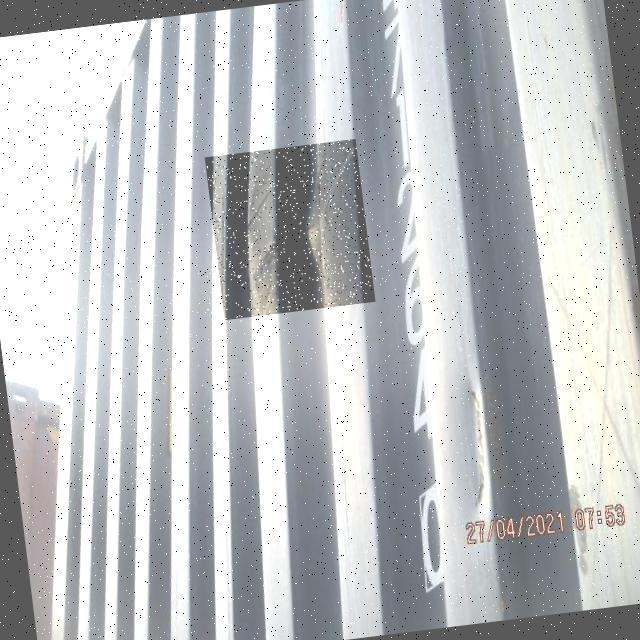Minor-Dent: (204, 139, 375, 320)
